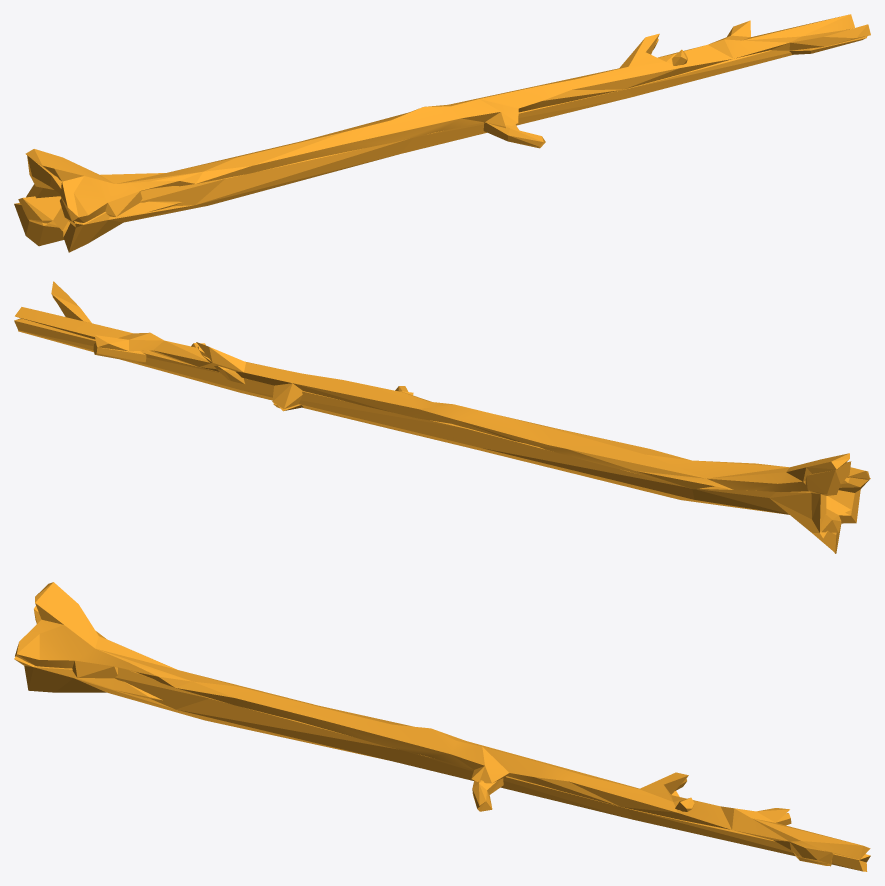
File: SM_Tree_Beech_Fallen_A_Snow.fbx
3 views of the same model, one above another, from view 1: azimuth 30°, elevation 25°; view 2: azimuth 150°, elevation 25°; view 3: azimuth 330°, elevation 25° (orthographic). The views are drawn at different scales.
Parts seen in each view (by area): view 1: tree-beech-fallen-a-snow; view 2: tree-beech-fallen-a-snow; view 3: tree-beech-fallen-a-snow.
Part boxes in pixels (bbox=[...]): tree-beech-fallen-a-snow: bbox=[14, 14, 870, 252]; tree-beech-fallen-a-snow: bbox=[14, 281, 870, 553]; tree-beech-fallen-a-snow: bbox=[14, 582, 870, 871].
Size of the model in its own units: 8.83 by 0.9727 by 1.13.
